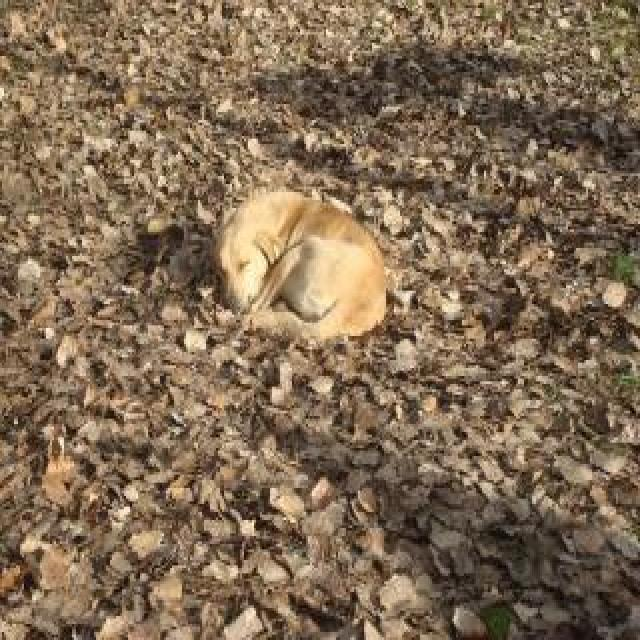laying down: (200, 183, 394, 353)
